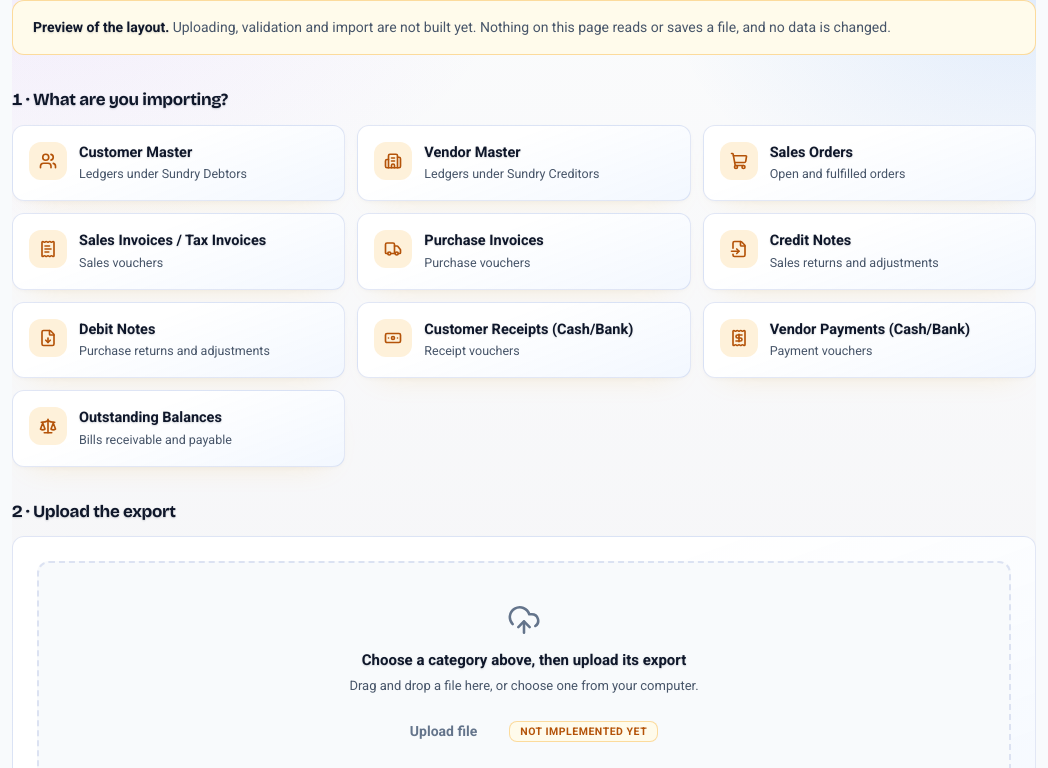
Scenario: TallyImportShell (structure only) › selecting a category only changes the view
The image size is (1048, 768).
Click the button "Credit Notes Sales returns and adjustments" at (739, 249), box x1=703 y1=213 x2=1036 y2=290
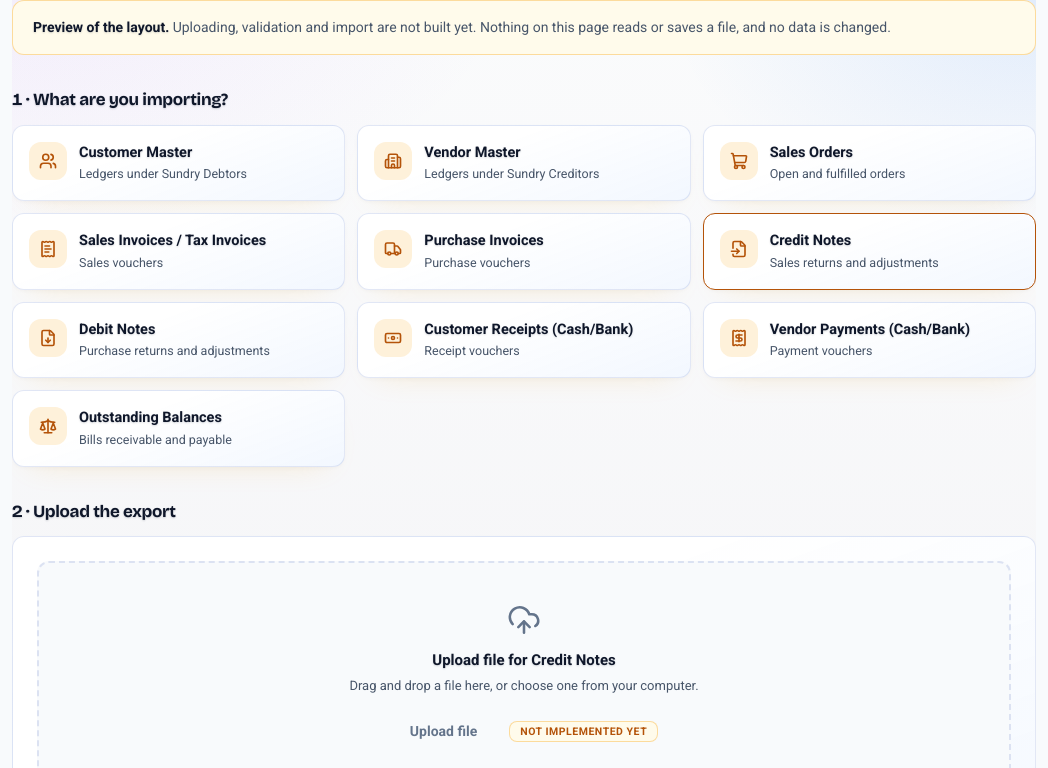
Check: the text "Upload file for Credit Notes" is shown, box x1=432 y1=651 x2=616 y2=669
